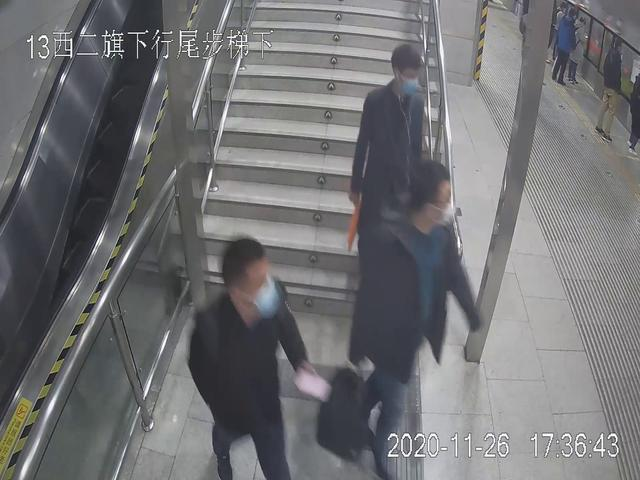person: (334, 165, 479, 471), (166, 231, 320, 480), (344, 40, 459, 344), (600, 38, 621, 144), (552, 5, 576, 83)
